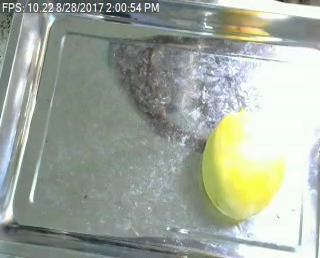Mango: (202, 112, 287, 219)
